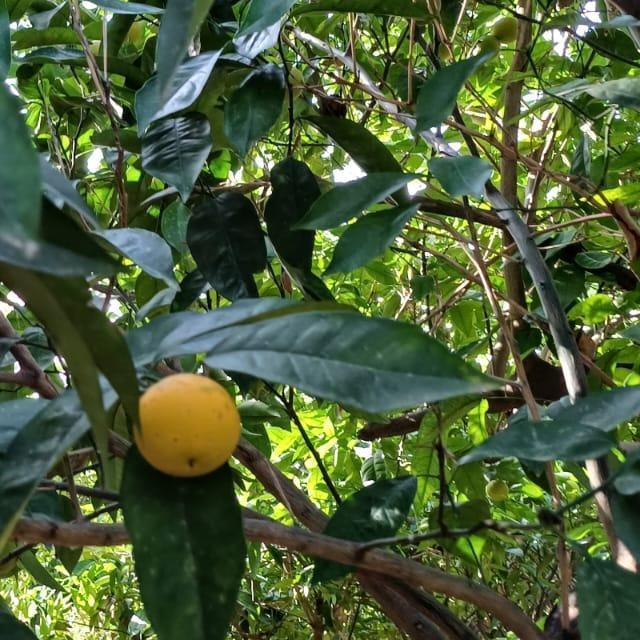orange: (124, 366, 250, 478)
